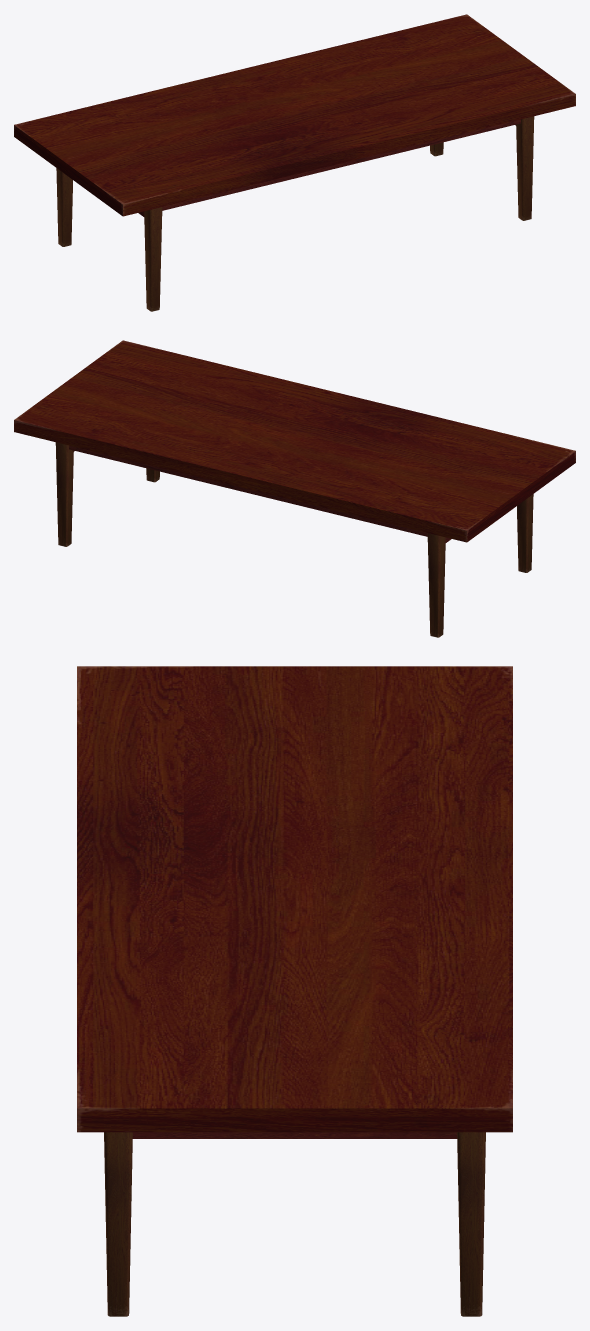
Rendered from coffee_table.glb.
The picture shows the model from 3 angles, top to bottom: view 1: azimuth 30°, elevation 25°; view 2: azimuth 150°, elevation 25°; view 3: azimuth 270°, elevation 25°; orthographic projection. The views are drawn at different scales.
Parts seen in each view (by area): view 1: coffee_table; view 2: coffee_table; view 3: coffee_table.
Part boxes in pixels (bbox=[...]): coffee_table: bbox=[14, 14, 575, 311]; coffee_table: bbox=[14, 340, 575, 637]; coffee_table: bbox=[77, 666, 512, 1316].
Size of the model in its own units: 1.2 by 0.3083 by 0.5.
Materials: 1 (1 with a texture image).
